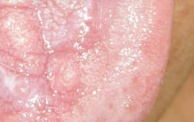SJS-TEN: (0, 0, 108, 121)
